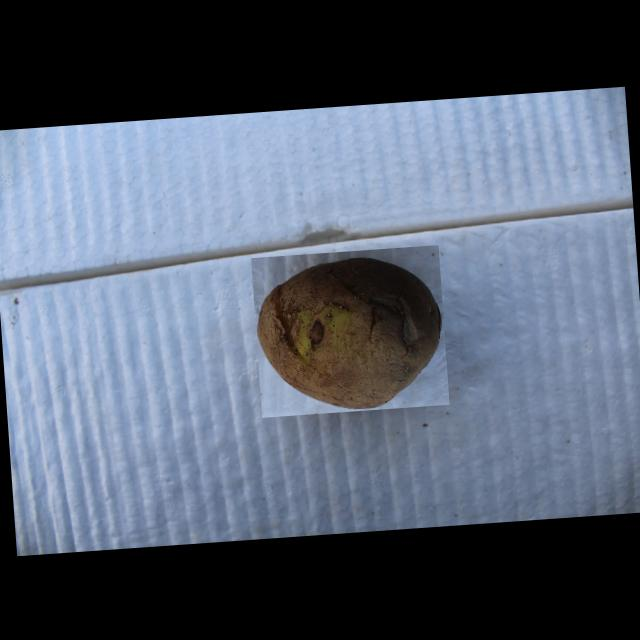Diseased-fungal potato: (250, 244, 448, 416)
